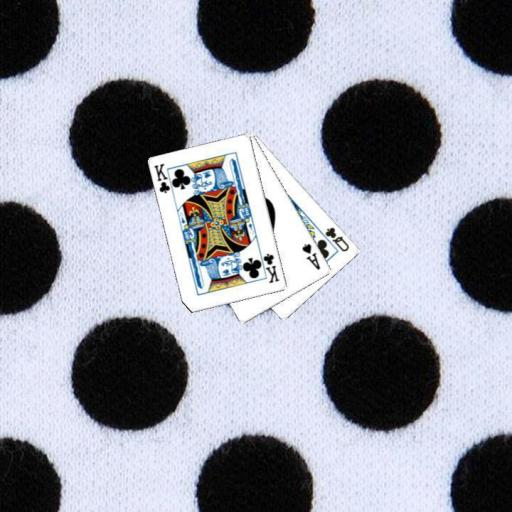card-corner: (256, 249, 281, 284), (322, 224, 351, 253), (152, 161, 176, 196), (300, 240, 322, 271)
